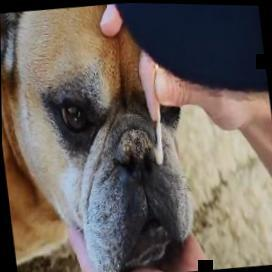keratosis: (106, 124, 162, 169)
